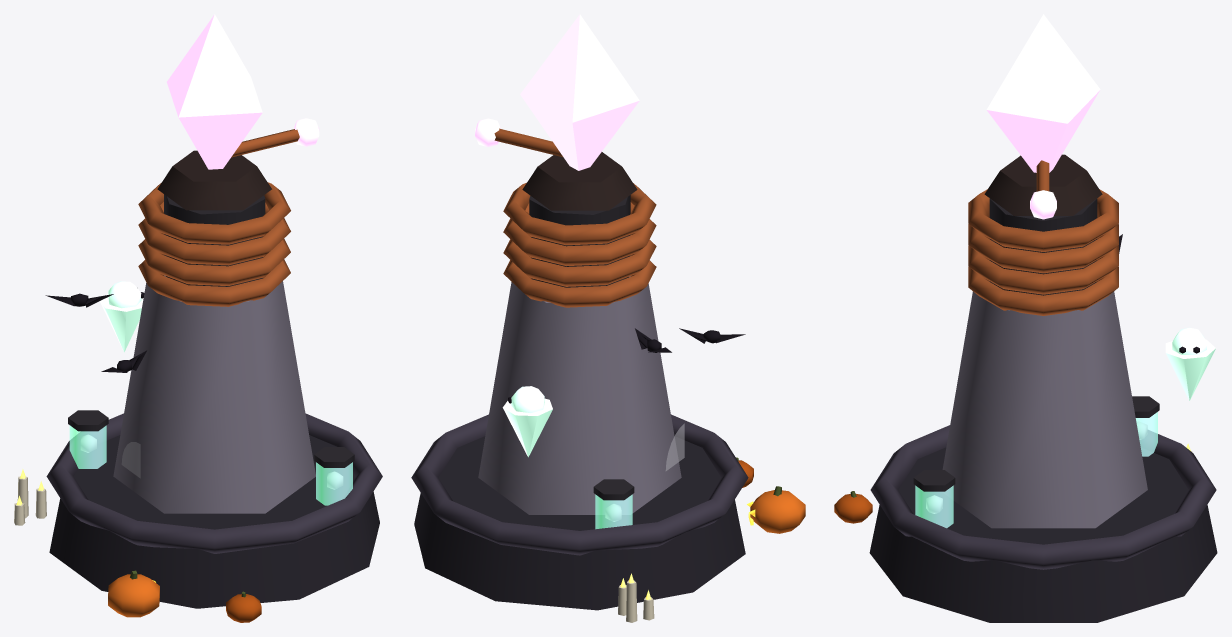
File: tower_chain_overload.glb
3 renders of one model, left to right at view 1: azimuth 30°, elevation 25°; view 2: azimuth 150°, elevation 25°; view 3: azimuth 270°, elevation 25°, orthographic. The views are drawn at different scales.
Visible parts, largest first — view 1: shaft, base, base_rim, crystal_core, cap, coil_3, coil_2, coil_1, coil_0, coil_core, deco_hw_jack_body, deco_hw_jar_1_glass (+10 smaller); view 2: shaft, base, base_rim, crystal_core, cap, coil_3, coil_2, coil_1, coil_0, coil_core, deco_hw_jack_body, deco_hw_ghost_sheet (+6 smaller); view 3: shaft, base, base_rim, crystal_core, cap, coil_3, coil_1, coil_2, coil_0, coil_core, deco_hw_ghost_sheet, deco_hw_jar_0_glass (+5 smaller).
Boxes of the visible parts, x1,y1,x2,y2 form: shaft: [113, 275, 315, 513]; base: [49, 435, 379, 608]; base_rim: [46, 413, 382, 553]; crystal_core: [167, 14, 262, 169]; cap: [157, 150, 271, 210]; coil_3: [138, 182, 290, 244]; coil_2: [138, 202, 290, 265]; coil_1: [138, 238, 290, 286]; coil_0: [138, 259, 290, 306]; coil_core: [164, 194, 265, 286]; deco_hw_jack_body: [108, 574, 159, 617]; deco_hw_jar_1_glass: [69, 425, 106, 468]; shaft: [478, 276, 681, 514]; base: [414, 436, 745, 610]; base_rim: [411, 414, 748, 555]; crystal_core: [520, 14, 639, 170]; cap: [522, 152, 637, 210]; coil_3: [503, 182, 656, 245]; coil_2: [503, 202, 656, 266]; coil_1: [503, 239, 656, 286]; coil_0: [503, 260, 656, 307]; coil_core: [529, 195, 630, 287]; deco_hw_jack_body: [750, 490, 805, 533]; deco_hw_ghost_sheet: [502, 398, 552, 457]; shaft: [942, 291, 1147, 528]; base: [869, 447, 1217, 622]; base_rim: [870, 425, 1216, 569]; crystal_core: [986, 14, 1100, 172]; cap: [984, 154, 1102, 215]; coil_3: [968, 189, 1118, 251]; coil_1: [968, 245, 1118, 294]; coil_2: [968, 224, 1118, 273]; coil_0: [968, 266, 1118, 315]; coil_core: [989, 198, 1097, 295]; deco_hw_ghost_sheet: [1165, 339, 1215, 400]; deco_hw_jar_0_glass: [915, 485, 953, 528].
Size of the model in its own units: 0.4215 by 0.6838 by 0.4404.
